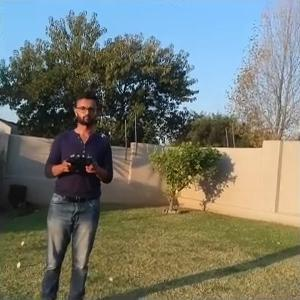follow: (36, 86, 116, 298)
